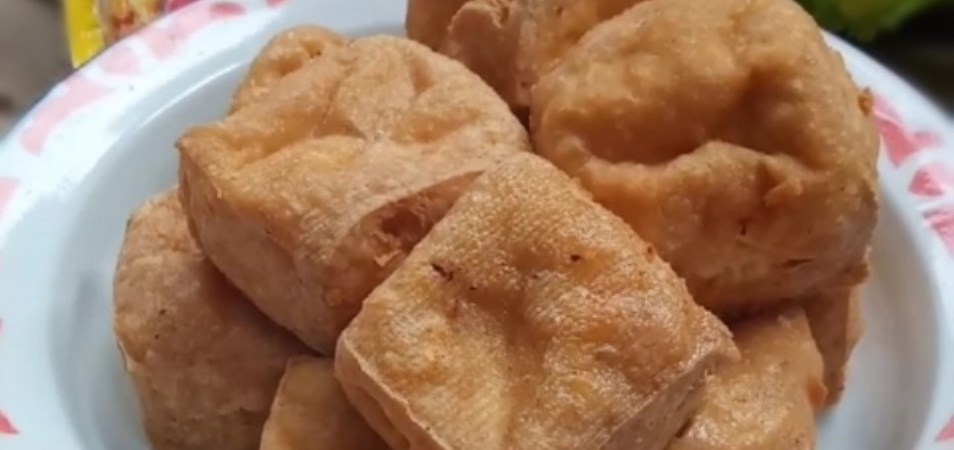Tahu: (159, 20, 534, 352), (498, 35, 907, 306), (387, 163, 723, 450)
